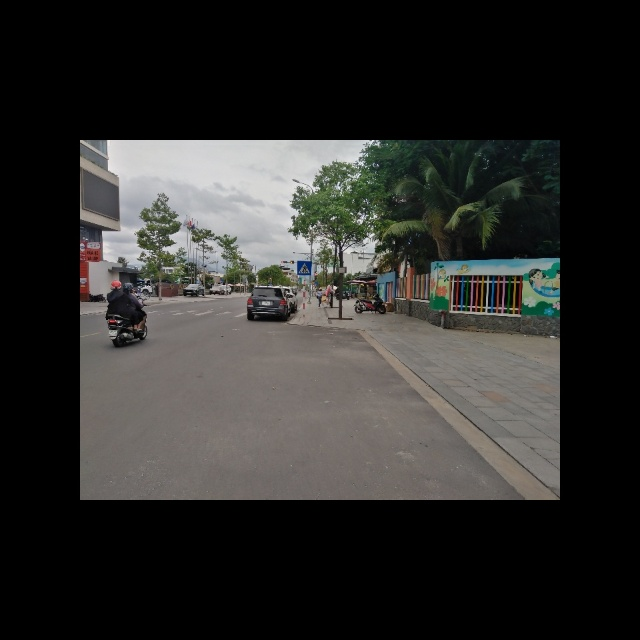Đường dành cho người đi bộ: (296, 260, 313, 276)
